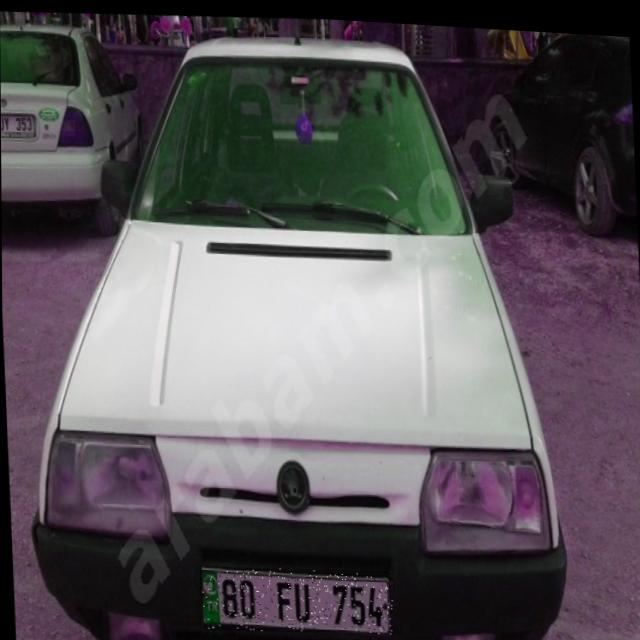license_plate: (201, 557, 393, 636)
